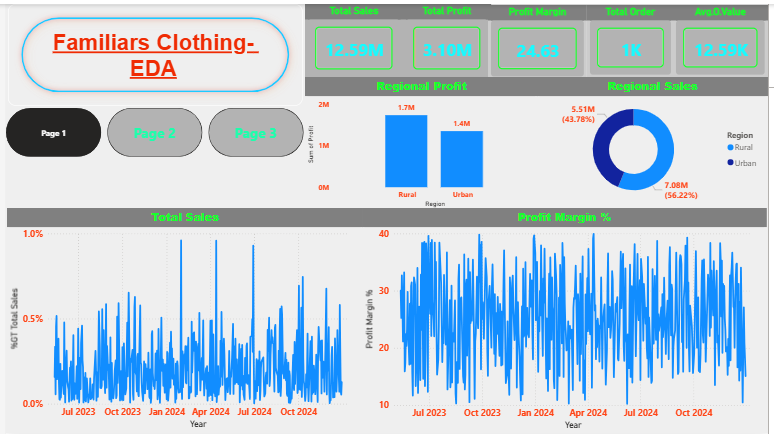

The page's visual inventory and layout, read from the dashboard file:
{"tool":"powerbi","page":{"name":"Dashboard_1","canvas":[1280,720],"ordinal":0},"visuals":[{"type":"cardVisual","title":"Total Sales","fields":{"Data":["Date Table.Total Sales"]},"box":[502.3,0,164.6,127.7],"z":0},{"type":"cardVisual","title":"Total Profit","fields":{"Data":["Date Table.Total Profit"]},"box":[666.9,0,147.8,127.7],"z":1000},{"type":"cardVisual","title":"Profit Margin","fields":{"Data":["Date Table.Profit Margin %"]},"box":[809.7,1.7,166.3,126],"z":2000},{"type":"cardVisual","title":"Total Order","fields":{"Data":["Date Table.Total Orders"]},"box":[976,1.7,146.1,122.6],"z":3000},{"type":"cardVisual","title":"Avg.O.Value","fields":{"Data":["Date Table.AOV"]},"box":[1120.4,1.7,159.6,122.6],"z":4000},{"type":"lineChart","title":"Profit Margin % ","fields":{"Y":["Date Table.Profit Margin %"],"Category":["Date Table.Date.Variation.Date Hierarchy.Year","Date Table.Date.Variation.Date Hierarchy.Quarter","Date Table.Date.Variation.Date Hierarchy.Month","Date Table.Date.Variation.Date Hierarchy.Day"]},"box":[598,342.7,680.3,378],"z":5000},{"type":"lineChart","title":"Total Sales","fields":{"Y":["Date Table.Total Sales"],"Category":["Date Table.Date.Variation.Date Hierarchy.Year","Date Table.Date.Variation.Date Hierarchy.Quarter","Date Table.Date.Variation.Date Hierarchy.Month","Date Table.Date.Variation.Date Hierarchy.Day"]},"box":[1.7,343.1,598.3,375.9],"z":6000},{"type":"clusteredColumnChart","title":"Regional Profit","fields":{"Category":["Familiars_Clothing_Database.Region"],"Y":["Sum(Familiars_Clothing_Database.Profit)"]},"box":[501.7,122.4,391.4,224.1],"z":7000},{"type":"donutChart","title":"Regional Sales","fields":{"Category":["Familiars_Clothing_Database.Region"],"Y":["Sum(Familiars_Clothing_Database.Sales Amount)"]},"box":[892,122.6,388,216.7],"z":8000},{"type":"textbox","box":[65.5,37.9,363.8,139.7],"z":9000},{"type":"shape","box":[3.4,0,494.8,170.7],"z":10000},{"type":"pageNavigator","box":[0,174.1,500,82.8],"z":11000}]}

Visuals, with their boxes in screenshot pixels (x1, y1, x2, y2), scaled from the page's 1280x720 canvas onto the 774x434 screenshot:
"Total Sales" cardVisual: 304:0:403:77
"Total Profit" cardVisual: 403:0:493:77
"Profit Margin" cardVisual: 490:1:590:77
"Total Order" cardVisual: 590:1:679:75
"Avg.O.Value" cardVisual: 677:1:773:75
"Profit Margin % " lineChart: 362:207:773:433
"Total Sales" lineChart: 1:207:363:433
"Regional Profit" clusteredColumnChart: 303:74:540:209
"Regional Sales" donutChart: 539:74:773:205
textbox: 40:23:260:107
shape: 2:0:301:103
pageNavigator: 0:105:302:155
